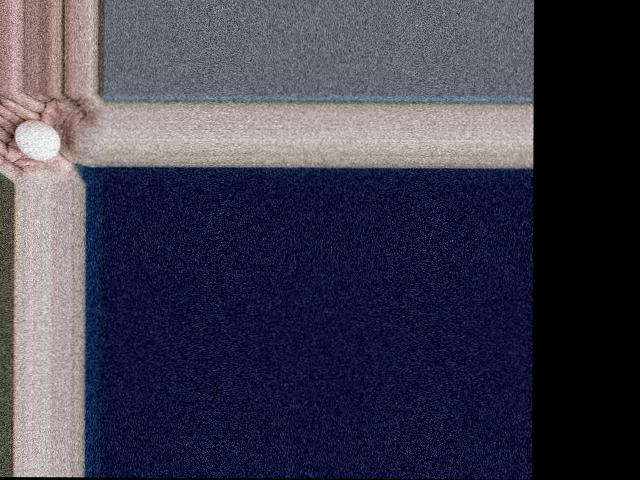egg: (14, 120, 59, 159)
